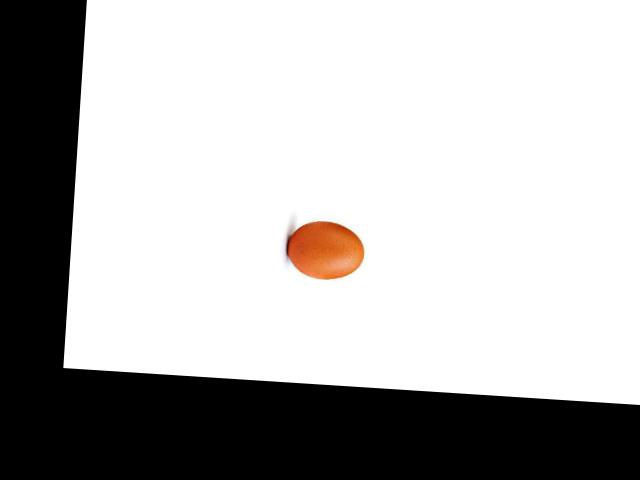egg: (286, 219, 365, 281)
